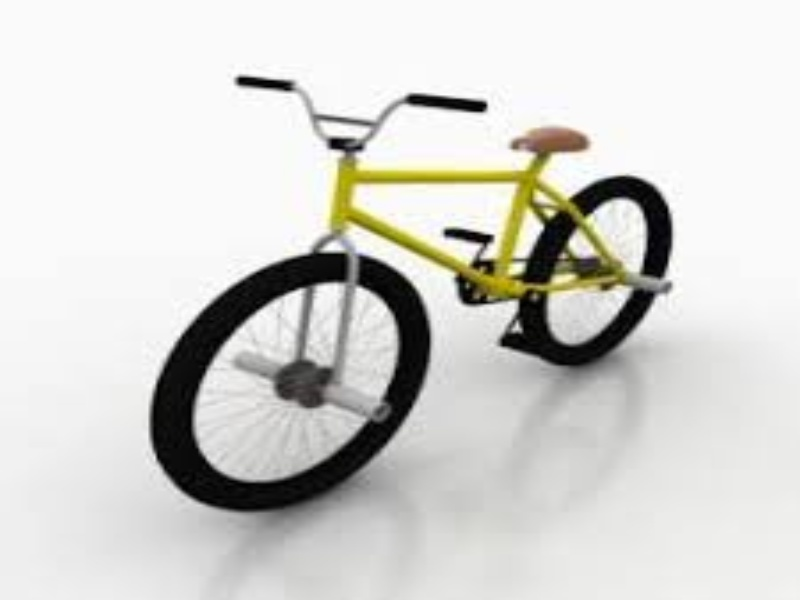bicycle: (125, 68, 687, 517)
